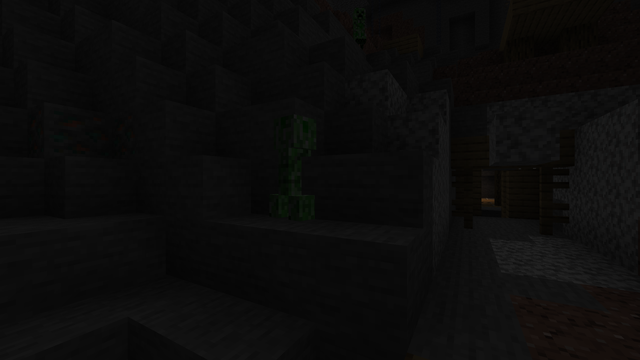creepers: (269, 108, 319, 220), (350, 3, 366, 47)
